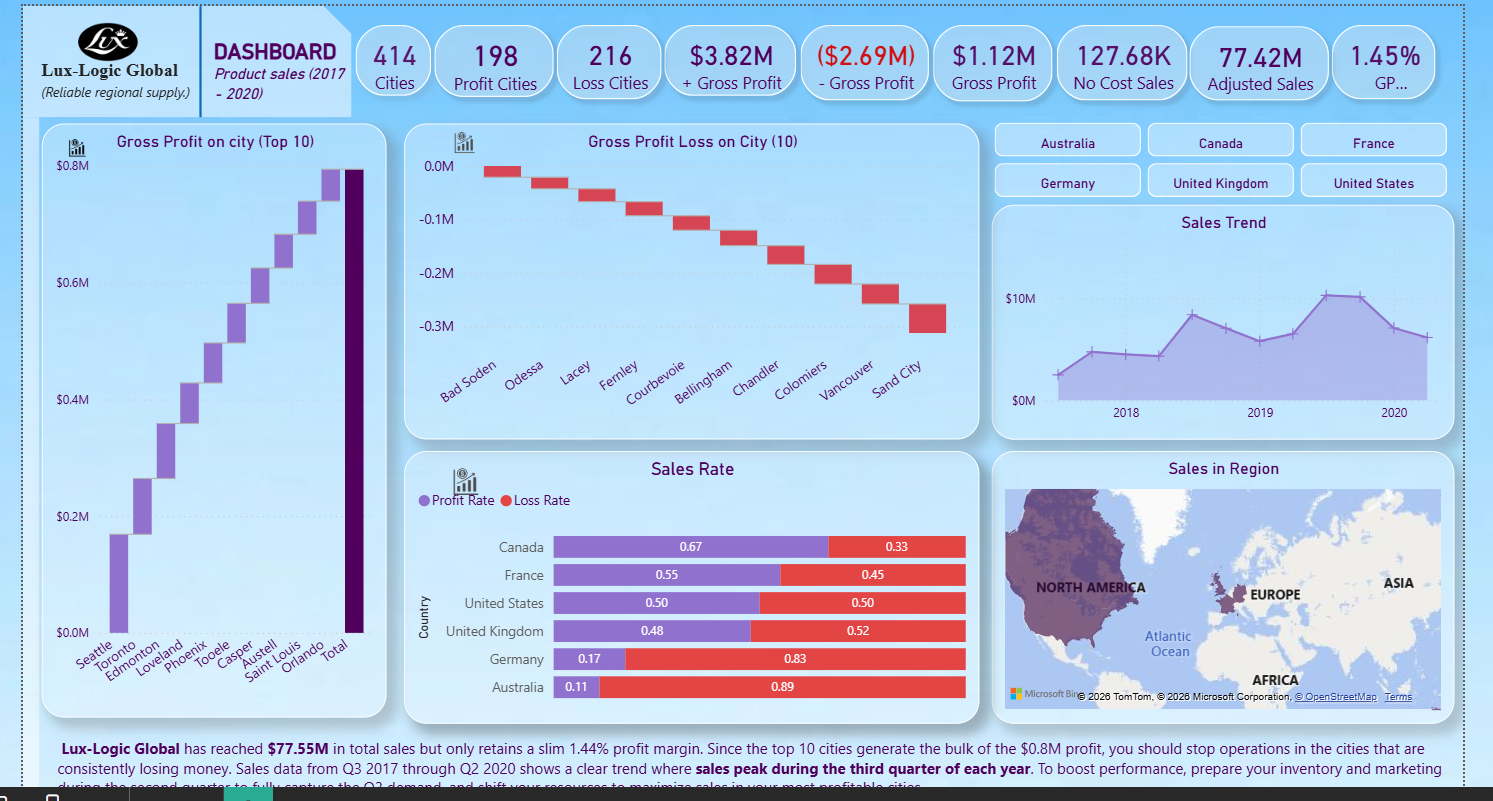

This screenshot's page, from the dashboard's own definition file:
{"tool":"powerbi","page":{"name":"Page 1","canvas":[1280,720],"ordinal":0},"visuals":[{"type":"shape","box":[0,0,292.2,98.9],"z":0},{"type":"cardVisual","fields":{"Data":["Sum(fact sales by geography.Gross Profit)"]},"box":[792.2,0,140,102.2],"z":1000},{"type":"cardVisual","fields":{"Data":["fact sales by geography.Zero Cost Sales"]},"box":[902.2,0,150,101.1],"z":2000},{"type":"cardVisual","title":"Gender","fields":{"Data":["fact sales by geography.Gross Profit Margin"]},"box":[1147.9,0,132.1,99.6],"z":3000},{"type":"waterfallChart","title":"Gross Profit on city (Top 10)","fields":{"Y":["Sum(fact sales by geography.Gross Profit)"],"Category":["fact sales by geography.City"]},"box":[5.7,104.3,324.3,528.6],"z":4000},{"type":"image","box":[373.6,406,40,34.4],"z":5000},{"type":"stackedAreaChart","title":"Sales Trend","fields":{"Category":["fact sales by geography.DueDate.Variation.Date Hierarchy.Year","fact sales by geography.DueDate.Variation.Date Hierarchy.Quarter"],"Y":["Sum(fact sales by geography.Sales Amount)"]},"box":[861.1,185.6,411.1,200],"z":6000},{"type":"filledMap","title":"Sales in Region","fields":{"Category":["fact sales by geography.Country"]},"box":[861.1,395.6,411.1,242.2],"z":7000},{"type":"advancedSlicerVisual","title":"Country","fields":{"Values":["fact sales by geography.Country"]},"box":[858.9,98.9,414.4,86.7],"z":8000},{"type":"image","box":[378,107.1,30,30],"z":9000},{"type":"cardVisual","title":"Marital Status","fields":{"Data":["fact sales by geography.Negative Gross Profit"]},"box":[674.4,0,148.9,101.1],"z":10000},{"type":"shape","box":[148.9,0,20,98.9],"z":11000},{"type":"waterfallChart","title":"Gross Profit Loss on  City (10)","fields":{"Y":["Sum(fact sales by geography.Gross Profit)"],"Category":["fact sales by geography.City"]},"box":[338.9,104.4,511.1,281.1],"z":12000},{"type":"textbox","box":[5.5,645.5,1266.4,74.5],"z":13000},{"type":"cardVisual","fields":{"Data":["Count(fact sales by geography.City)"]},"box":[278.9,0,101.1,97.8],"z":14000},{"type":"image","box":[41.1,0,68.9,64.4],"z":15000},{"type":"textbox","box":[164.4,6.7,127.8,98.9],"z":16000},{"type":"textbox","box":[5.6,40,153.3,68.9],"z":17000},{"type":"image","box":[35.6,113.3,25.6,25.6],"z":18000},{"type":"cardVisual","fields":{"Data":["fact sales by geography.Positive Gross Profit"]},"box":[553.3,0,151.1,97.8],"z":19000},{"type":"cardVisual","fields":{"Data":["fact sales by geography.Profitable Cities"]},"box":[348.9,0,140,98.9],"z":20000},{"type":"cardVisual","fields":{"Data":["fact sales by geography.Loss Making Cities"]},"box":[457.8,0,127.8,100],"z":21000},{"type":"barChart","title":"Sales Rate","fields":{"Category":["fact sales by geography.Country"],"Y":["fact sales by geography.Profit Rate","fact sales by geography.Loss Rate"]},"box":[338.9,395.6,511.1,242.2],"z":22000},{"type":"cardVisual","fields":{"Data":["fact sales by geography.Adjusted Sales"]},"box":[1020,1.1,158.9,100],"z":23000}]}

Visuals, with their boxes on the page's 1280x720 design canvas (x1, y1, x2, y2). These are canvas units, not pixel positions in the 1493x801 screenshot, which may show the page scaled, cropped or inside an application window:
shape: 0, 0, 292, 99
cardVisual - Sum(fact sales by geography.Gross Profit): 792, 0, 932, 102
cardVisual - fact sales by geography.Zero Cost Sales: 902, 0, 1052, 101
"Gender" cardVisual: 1148, 0, 1280, 100
"Gross Profit on city (Top 10)" waterfallChart: 6, 104, 330, 633
image: 374, 406, 414, 440
"Sales Trend" stackedAreaChart: 861, 186, 1272, 386
"Sales in Region" filledMap: 861, 396, 1272, 638
"Country" advancedSlicerVisual: 859, 99, 1273, 186
image: 378, 107, 408, 137
"Marital Status" cardVisual: 674, 0, 823, 101
shape: 149, 0, 169, 99
"Gross Profit Loss on  City (10)" waterfallChart: 339, 104, 850, 386
textbox: 6, 646, 1272, 720
cardVisual - Count(fact sales by geography.City): 279, 0, 380, 98
image: 41, 0, 110, 64
textbox: 164, 7, 292, 106
textbox: 6, 40, 159, 109
image: 36, 113, 61, 139
cardVisual - fact sales by geography.Positive Gross Profit: 553, 0, 704, 98
cardVisual - fact sales by geography.Profitable Cities: 349, 0, 489, 99
cardVisual - fact sales by geography.Loss Making Cities: 458, 0, 586, 100
"Sales Rate" barChart: 339, 396, 850, 638
cardVisual - fact sales by geography.Adjusted Sales: 1020, 1, 1179, 101
